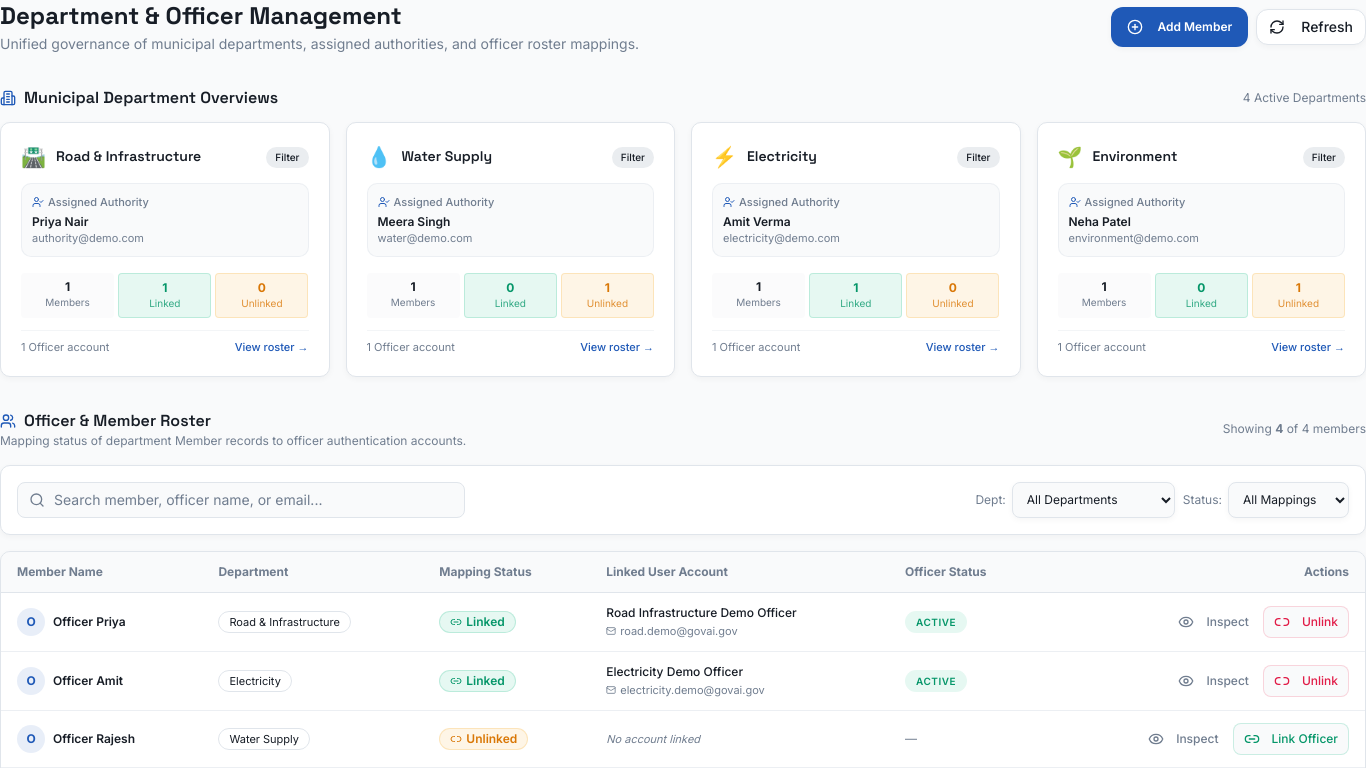
it: Admin Department & Officer Management Page › filters roster by department selection
Expected: the text "Officer Priya" is shown, [53, 614, 126, 630]
Step 1. Select "Water Supply" in the dropdown with test id "department-filter-select" → (1093,500), box [1012, 482, 1175, 518]
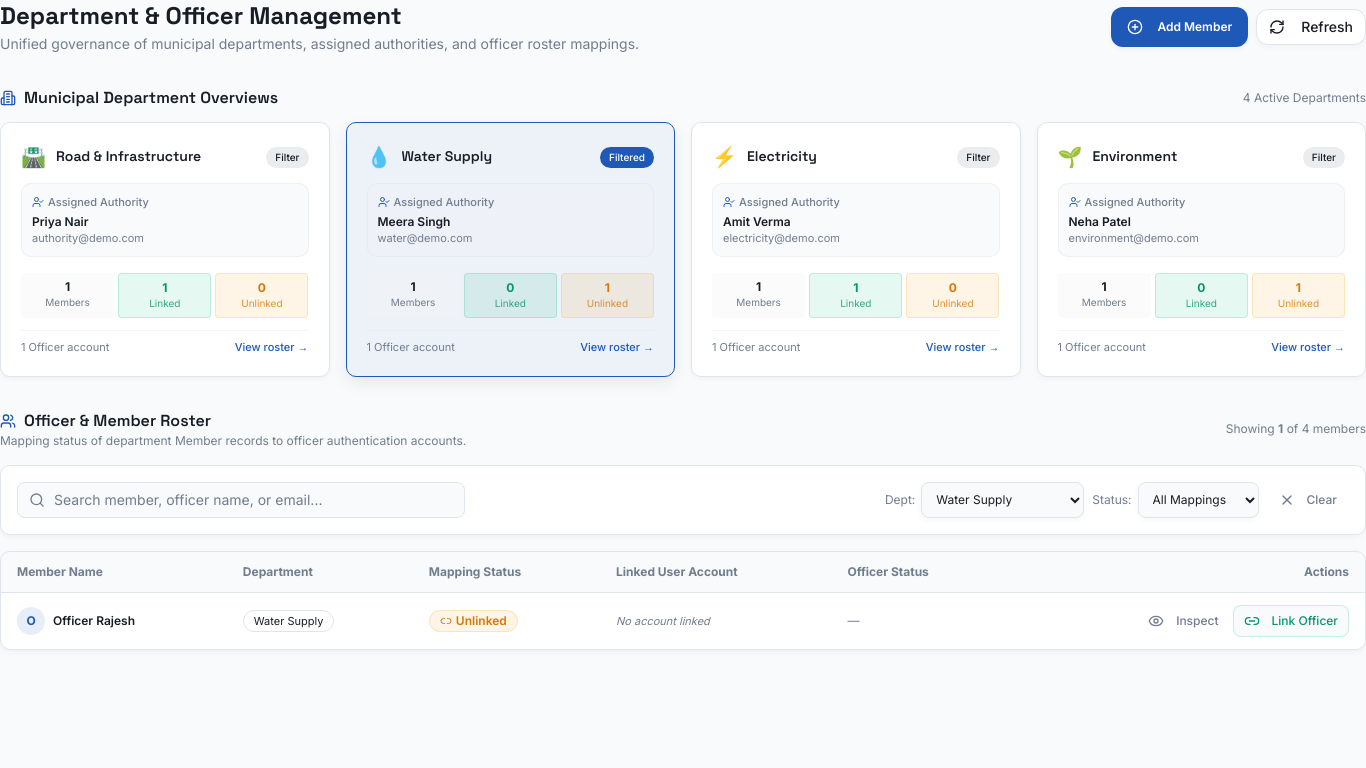
Expected: the text "Officer Rajesh" is shown, [53, 612, 135, 628]
Expected: the text "Officer Priya" is gone
Expected: the text "Officer Amit" is gone
